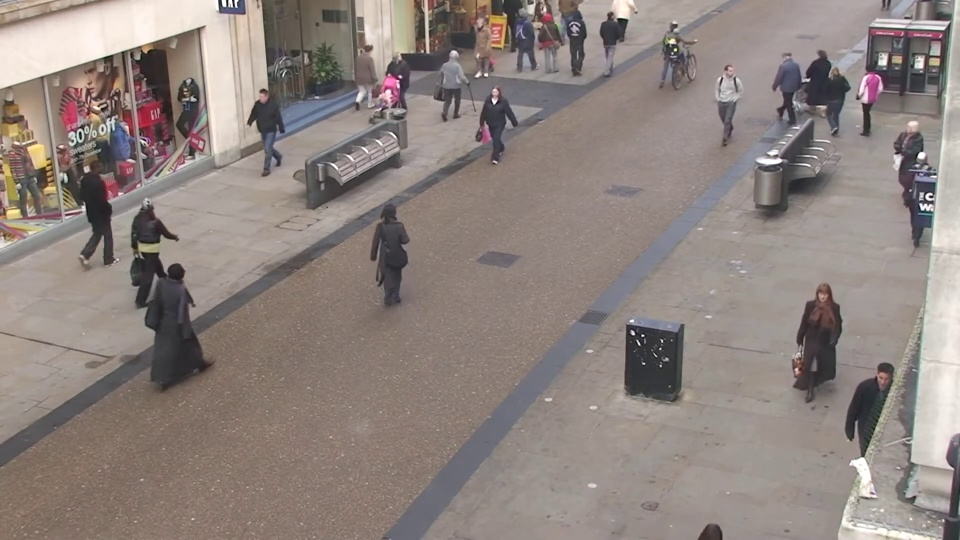pedestrian: (848, 366, 911, 532), (792, 280, 845, 419), (169, 249, 220, 377), (139, 185, 186, 297), (895, 142, 944, 248), (371, 196, 413, 314), (86, 151, 133, 253), (882, 118, 927, 217), (846, 60, 882, 144), (242, 88, 276, 174), (810, 61, 844, 145), (479, 85, 509, 172), (798, 44, 829, 122), (712, 62, 741, 144), (765, 47, 795, 125), (379, 51, 407, 128), (444, 45, 471, 121), (360, 39, 387, 113), (465, 19, 490, 87), (666, 12, 690, 80), (538, 11, 562, 78), (570, 8, 593, 74), (516, 7, 539, 73), (601, 7, 623, 73)
